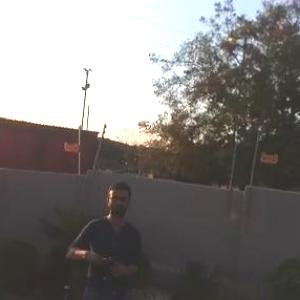follow: (59, 171, 149, 299)
